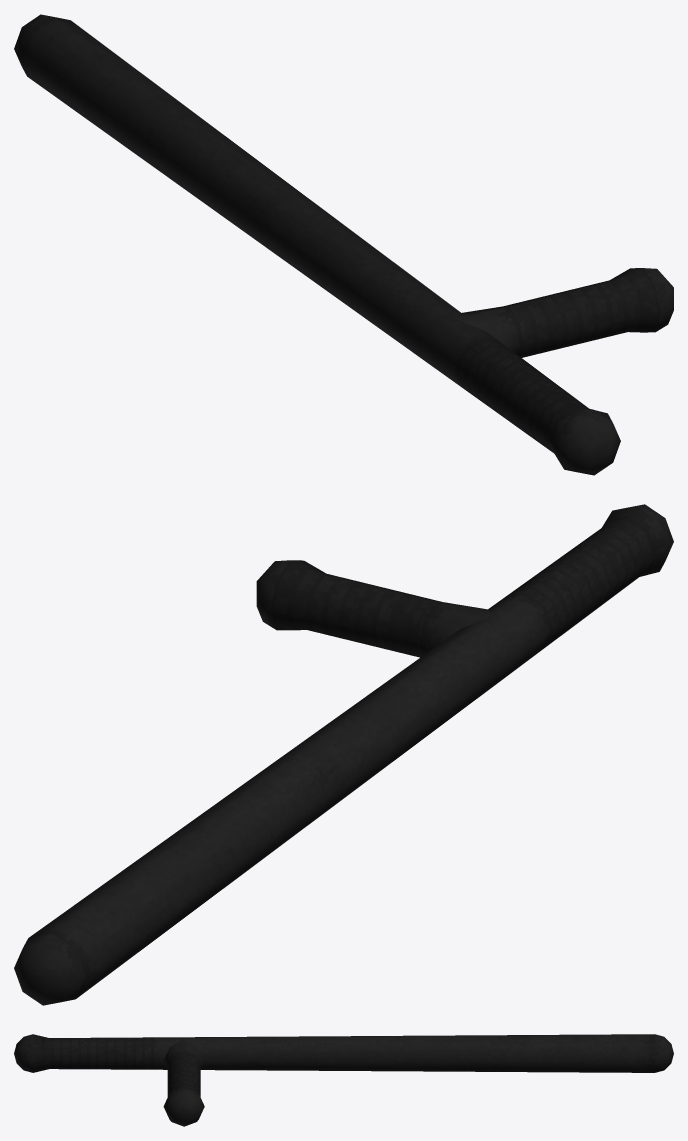
Rendered from baton.glb.
3 views of the same model, one above another, from view 1: azimuth 30°, elevation 25°; view 2: azimuth 150°, elevation 25°; view 3: azimuth 270°, elevation 25° (orthographic). The views are drawn at different scales.
Parts seen in each view (by area): view 1: police_baton_mp_1; view 2: police_baton_mp_1; view 3: police_baton_mp_1.
Part boxes in pixels (left/top/right/bottom): police_baton_mp_1: left=14, top=14, right=673, bottom=475; police_baton_mp_1: left=14, top=504, right=673, bottom=1005; police_baton_mp_1: left=14, top=1034, right=673, bottom=1126.
Bounding box in the file's own units: 0.16 × 0.04 × 0.64.
1 material, 1 textured.
